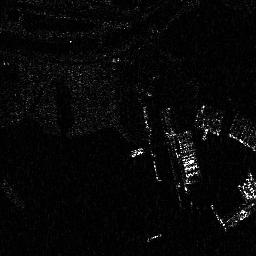ship: (225, 202, 255, 227)
